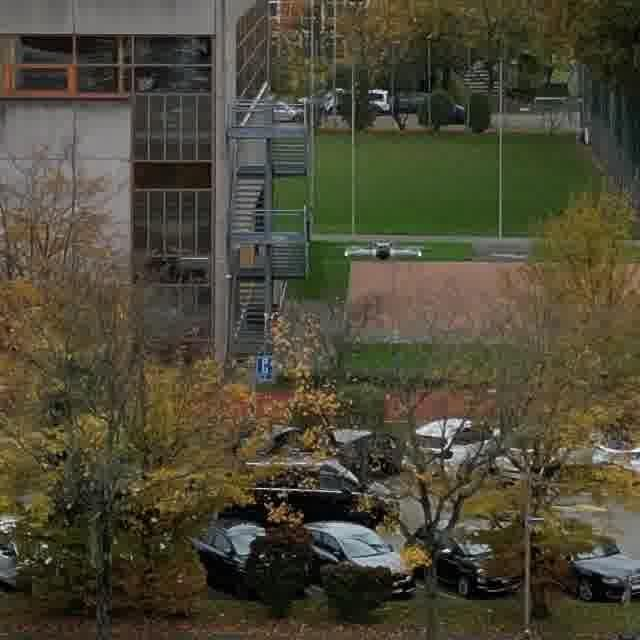Drohne: (345, 241, 422, 260)
